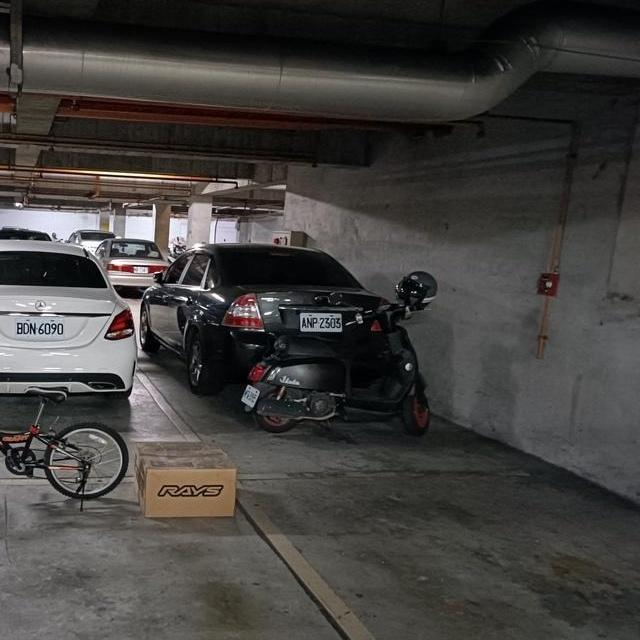W: (12, 313, 67, 341), (296, 307, 344, 334)
